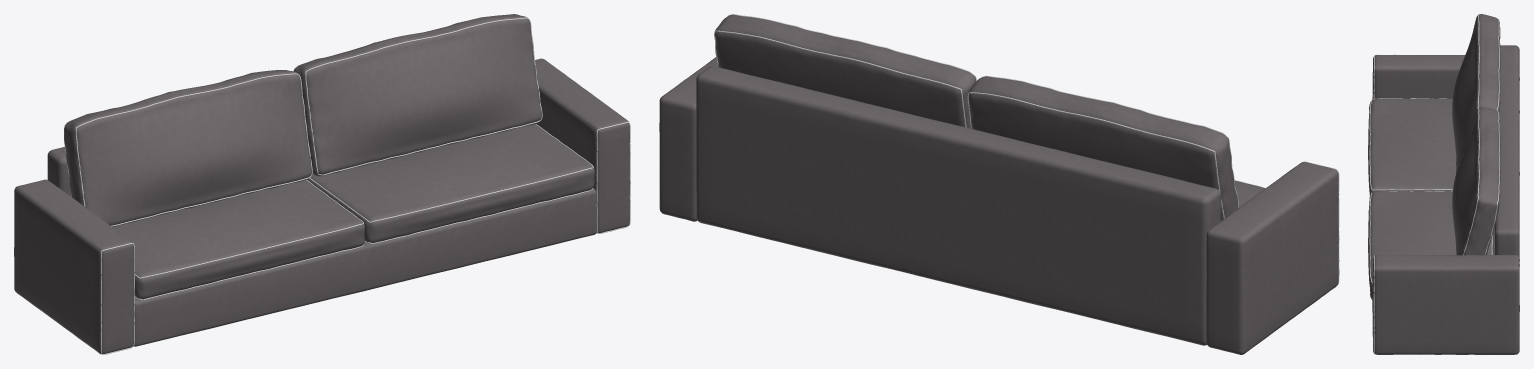
File: stanza-piped-01.glb
The picture shows the model from 3 angles, left to right: view 1: azimuth 30°, elevation 25°; view 2: azimuth 150°, elevation 25°; view 3: azimuth 270°, elevation 25°; orthographic projection. The views are drawn at different scales.
Parts seen in each view (by area): view 1: back_cushion_1_cover, back_cushion_2_cover, base_band, seat_cushion_2, seat_cushion_1, arm_l, arm_r, back_cushion_2_welt_ny, back_cushion_1_welt_ny, back_panel, seat_cushion_2_welt_top, seat_cushion_1_welt_top; view 2: back_panel, arm_l, back_cushion_1_cover, back_cushion_2_cover, arm_r, back_cushion_1_welt_py, back_cushion_2_welt_py; view 3: arm_r, seat_cushion_1, seat_cushion_2, back_cushion_2_cover, back_panel, back_cushion_1_cover, arm_l, seat_cushion_1_welt_top, back_cushion_2_welt_ny, seat_cushion_2_welt_top, back_cushion_2_welt_py, arm_r_front_welt (+2 smaller).
Part boxes in pixels (x1,y1,x2,y2): back_cushion_1_cover: [64, 70, 311, 227]; back_cushion_2_cover: [294, 14, 541, 176]; base_band: [134, 188, 596, 346]; seat_cushion_2: [307, 124, 594, 242]; seat_cushion_1: [113, 180, 364, 299]; arm_l: [14, 179, 134, 354]; arm_r: [535, 58, 629, 233]; back_cushion_2_welt_ny: [305, 17, 542, 175]; back_cushion_1_welt_ny: [75, 73, 312, 226]; back_panel: [47, 147, 71, 196]; seat_cushion_2_welt_top: [309, 124, 593, 222]; seat_cushion_1_welt_top: [135, 179, 363, 278]; back_panel: [696, 66, 1220, 345]; arm_l: [1206, 162, 1338, 354]; back_cushion_1_cover: [968, 76, 1238, 220]; back_cushion_2_cover: [715, 14, 975, 128]; arm_r: [659, 57, 717, 221]; back_cushion_1_welt_py: [967, 92, 1224, 218]; back_cushion_2_welt_py: [714, 30, 966, 127]; arm_r: [1372, 255, 1519, 354]; seat_cushion_1: [1368, 98, 1456, 195]; seat_cushion_2: [1368, 191, 1493, 299]; back_cushion_2_cover: [1452, 107, 1500, 255]; back_panel: [1494, 45, 1519, 311]; back_cushion_1_cover: [1452, 14, 1500, 173]; arm_l: [1372, 54, 1519, 99]; seat_cushion_1_welt_top: [1369, 98, 1452, 190]; back_cushion_2_welt_ny: [1463, 107, 1479, 255]; seat_cushion_2_welt_top: [1369, 191, 1492, 283]; back_cushion_2_welt_py: [1485, 111, 1499, 254]; arm_r_front_welt: [1373, 255, 1374, 354].
Bounding box in the file's own units: 3.47 × 1.12 × 1.03.
Materials: 2 (1 with a texture image).
